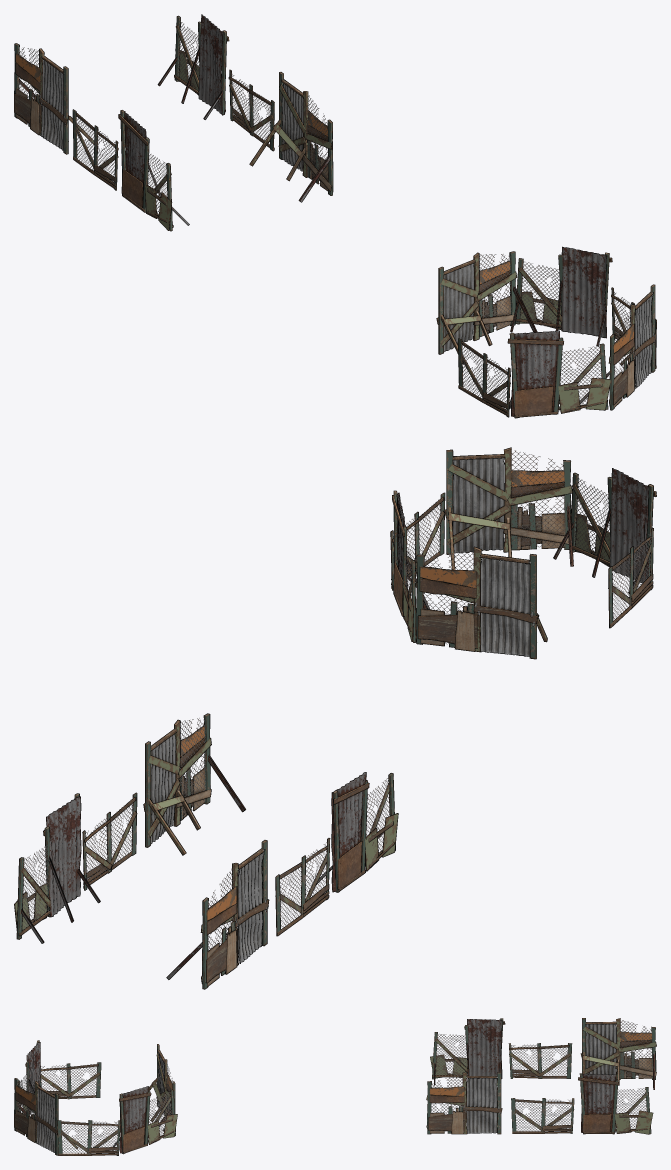
File: cartoon_post_apocalyptic_fence.glb
3 views of the same model, one above another, from view 1: azimuth 30°, elevation 25°; view 2: azimuth 150°, elevation 25°; view 3: azimuth 270°, elevation 25° (orthographic). The views are drawn at different scales.
Visible parts, largest first — view 1: Cube.007, Cube.003, Cube.004, Cube.012, Cube.019, Cube.005, Cube.017, Cube.013, Cube.022, Cube.006, Cube.020, Cube.018 (+7 smaller); view 2: Cube.007, Cube.003, Cube.012, Cube.019, Cube.004, Cube.005, Cube.017, Cube.013, Cube.022, Cube.018, Cube.006, Cube.010 (+7 smaller); view 3: Cube.007, Cube.012, Cube.019, Cube.005, Cube.003, Cube.017, Cube.004, Cube.002, Cube.016, Cube.018, Cube.010, Cube.022 (+9 smaller).
Boxes of the visible parts, x1,y1,x2,y2 form: Cube.007: [437, 247, 656, 417]; Cube.003: [436, 246, 656, 418]; Cube.004: [462, 254, 632, 411]; Cube.012: [250, 72, 332, 201]; Cube.019: [14, 43, 94, 153]; Cube.005: [159, 15, 228, 119]; Cube.017: [118, 110, 189, 230]; Cube.013: [249, 72, 333, 202]; Cube.022: [14, 43, 93, 154]; Cube.006: [157, 14, 229, 119]; Cube.020: [118, 110, 189, 231]; Cube.018: [73, 110, 118, 190]; Cube.007: [391, 448, 656, 658]; Cube.003: [390, 447, 656, 659]; Cube.012: [144, 714, 245, 854]; Cube.019: [167, 840, 268, 988]; Cube.004: [392, 449, 651, 644]; Cube.005: [14, 794, 99, 942]; Cube.017: [318, 772, 397, 892]; Cube.013: [143, 713, 245, 855]; Cube.022: [166, 840, 269, 989]; Cube.018: [275, 838, 329, 935]; Cube.006: [14, 793, 100, 943]; Cube.010: [83, 793, 136, 889]; Cube.007: [14, 1040, 177, 1155]; Cube.012: [426, 1072, 501, 1133]; Cube.019: [581, 1018, 656, 1089]; Cube.005: [578, 1073, 652, 1134]; Cube.003: [14, 1040, 177, 1155]; Cube.017: [430, 1018, 504, 1084]; Cube.004: [17, 1063, 172, 1153]; Cube.002: [515, 1099, 571, 1130]; Cube.016: [510, 1044, 569, 1076]; Cube.018: [509, 1043, 571, 1078]; Cube.010: [511, 1098, 574, 1133]; Cube.022: [580, 1018, 656, 1089].
Size of the model in its own units: 5.41 by 1.96 by 18.66.
3 materials, 2 textured.
